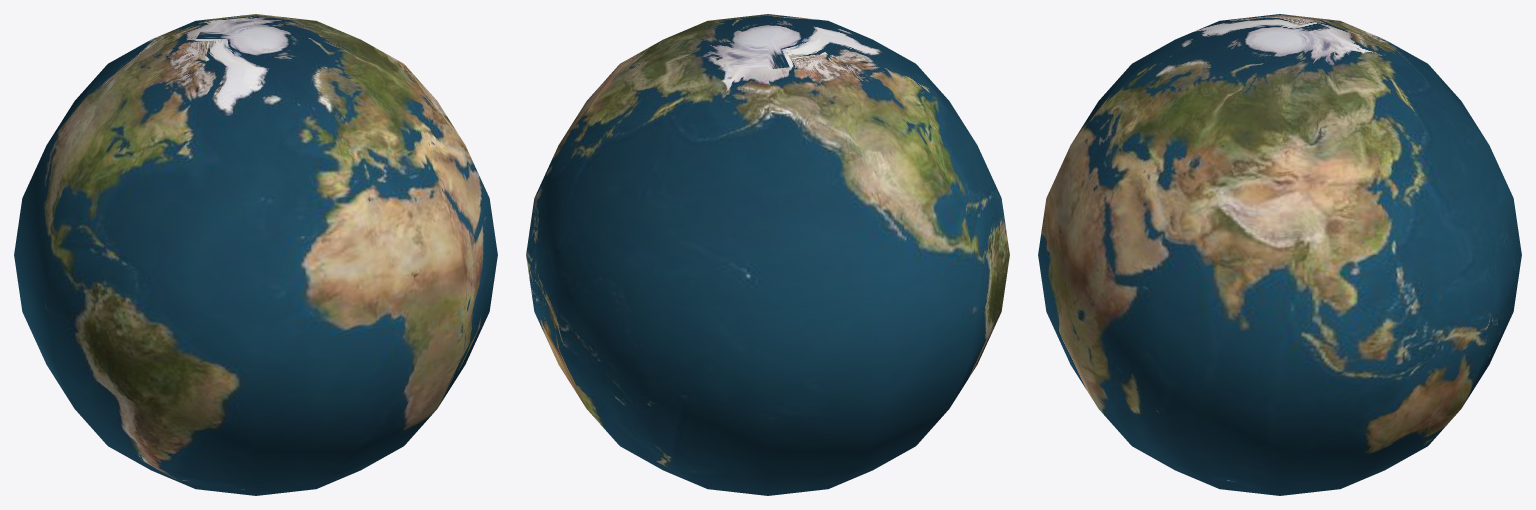
The model's file is earth.obj.
The picture shows the model from 3 angles, left to right: view 1: azimuth 30°, elevation 25°; view 2: azimuth 150°, elevation 25°; view 3: azimuth 270°, elevation 25°; orthographic projection.
Size of the model in its own units: 0.5 by 0.5 by 0.5.
1 material, 1 textured.
